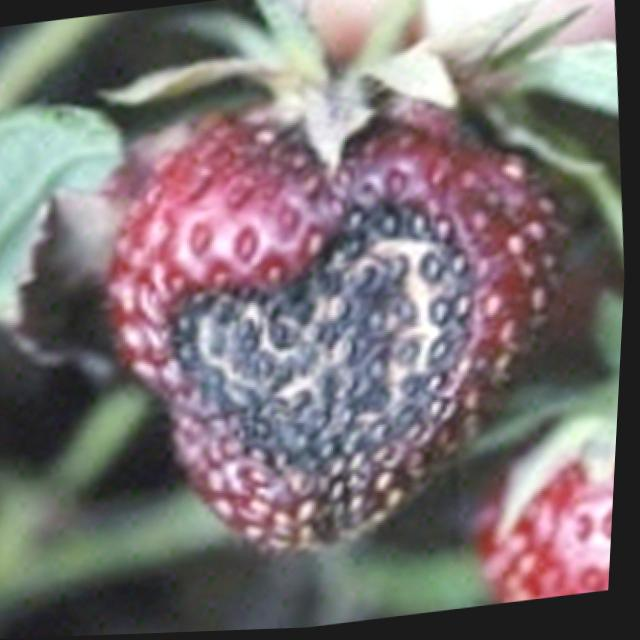Anthracnose Fruit Rot: (150, 81, 575, 553)
